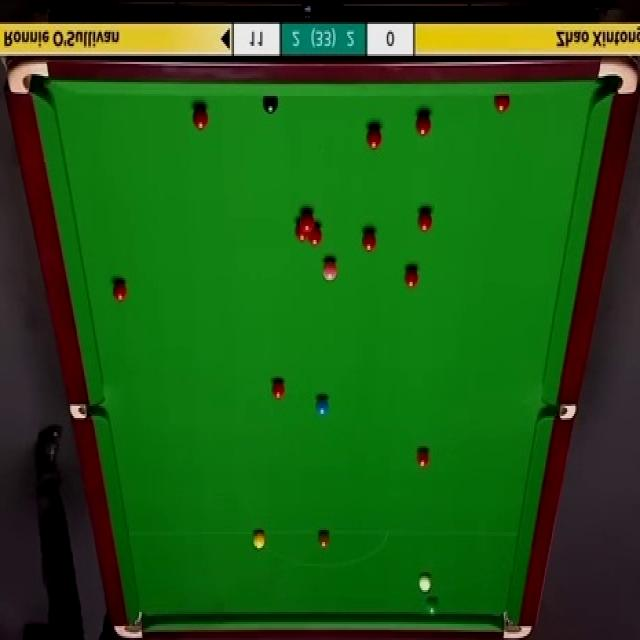black-ball: (262, 95, 280, 117)
blue-ball: (315, 395, 329, 418)
brown-ball: (316, 529, 330, 552)
green-ball: (425, 600, 440, 619)
pink-ball: (323, 258, 338, 286)
red-ball: (403, 262, 420, 291), (111, 277, 128, 304), (414, 111, 431, 137), (366, 125, 382, 151), (417, 210, 432, 235), (415, 445, 430, 470), (361, 228, 376, 253), (194, 106, 208, 132), (271, 378, 286, 401), (308, 222, 322, 246), (494, 94, 510, 114), (301, 210, 314, 230), (295, 222, 308, 242)
white-ball: (418, 572, 432, 595)
yellow-ball: (252, 531, 265, 551)
